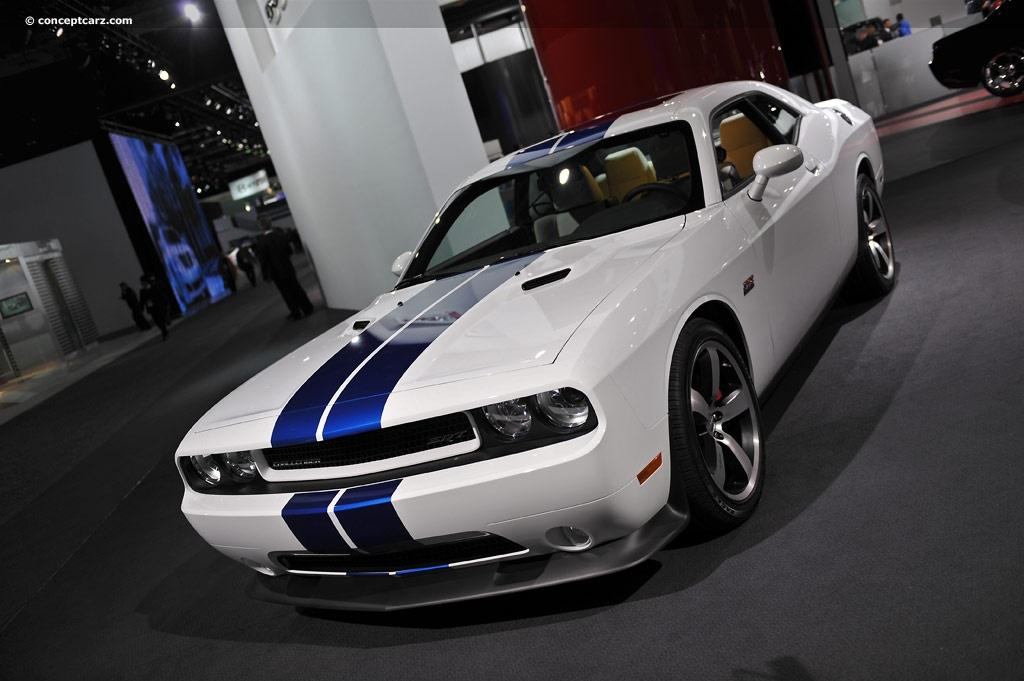Car: (128, 21, 957, 643)
